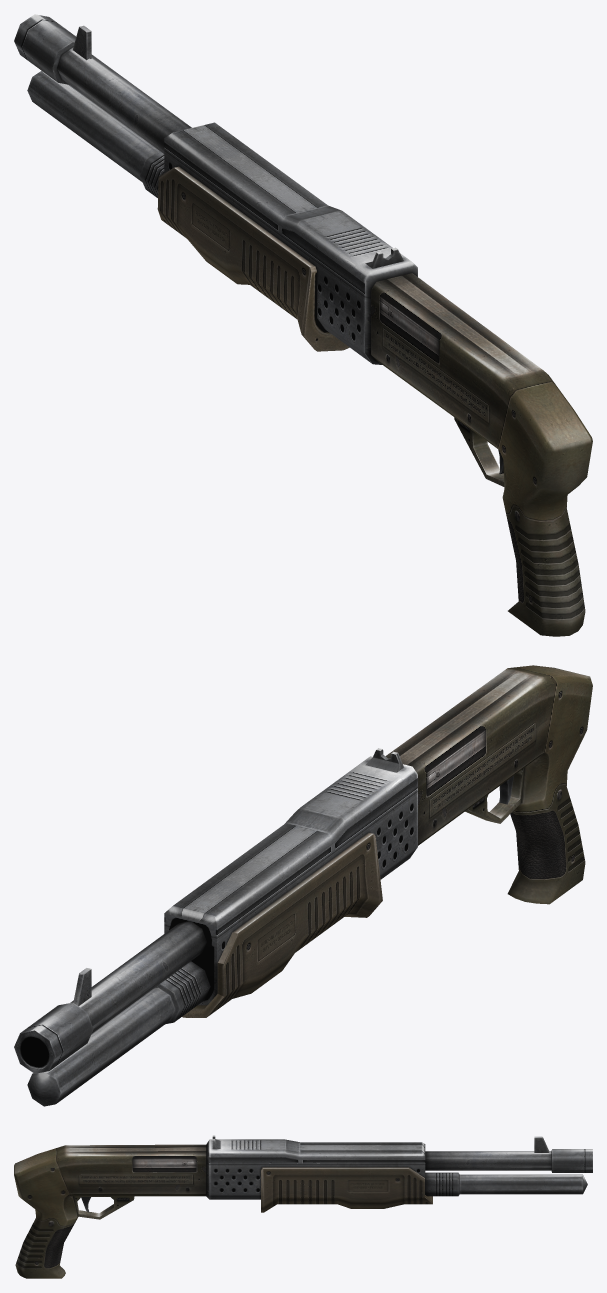
File: Shotgun2.fbx
The picture shows the model from 3 angles, top to bottom: view 1: azimuth 30°, elevation 25°; view 2: azimuth 150°, elevation 25°; view 3: azimuth 270°, elevation 25°; orthographic projection. The views are drawn at different scales.
Parts seen in each view (by area): view 1: Shotgun2; view 2: Shotgun2; view 3: Shotgun2.
Boxes of the visible parts, box(x1,y1,x2,y2) form: Shotgun2: box(14, 14, 592, 636); Shotgun2: box(14, 665, 592, 1106); Shotgun2: box(14, 1135, 592, 1278).
Size of the model in its own units: 5.04 by 15.41 by 59.55.
